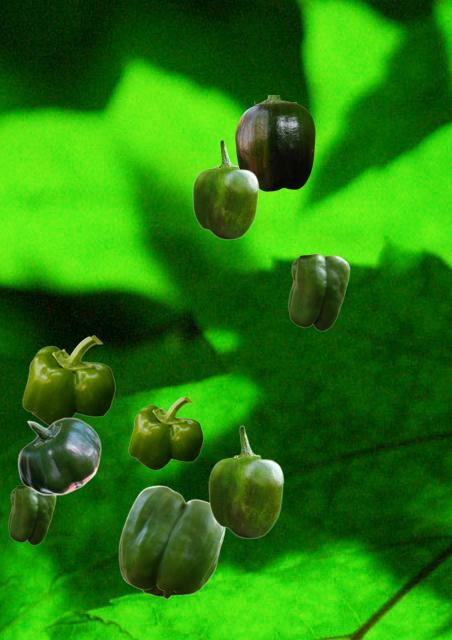bell_pepper: (118, 485, 224, 598), (208, 425, 283, 538), (22, 335, 114, 425), (235, 95, 314, 190), (192, 139, 258, 239), (17, 417, 100, 494), (128, 396, 202, 469), (288, 253, 349, 330), (8, 485, 55, 544)
